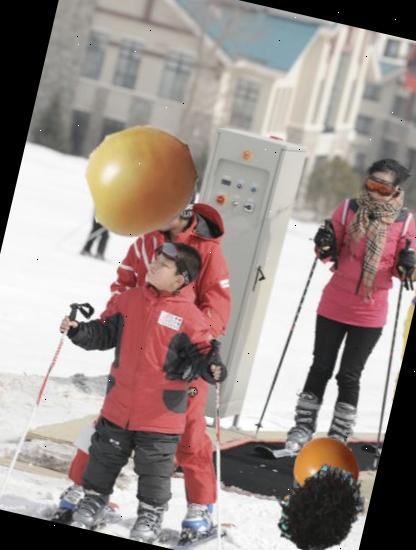Cherry: (74, 114, 206, 246)
Rambutan: (266, 455, 373, 550)
Tomato: (286, 430, 365, 509)
